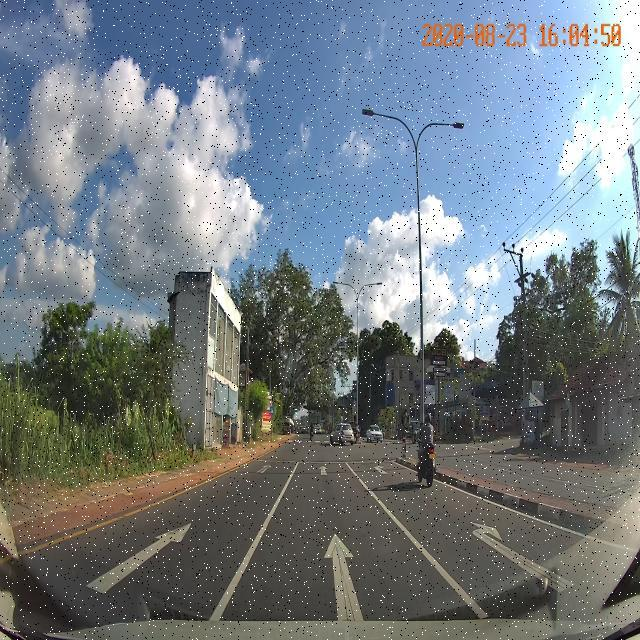forward: (204, 507, 499, 620)
